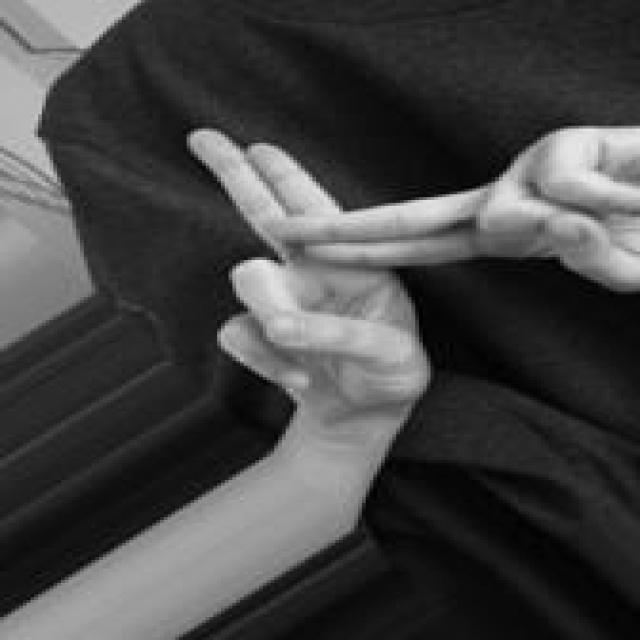K: (175, 120, 640, 443)
